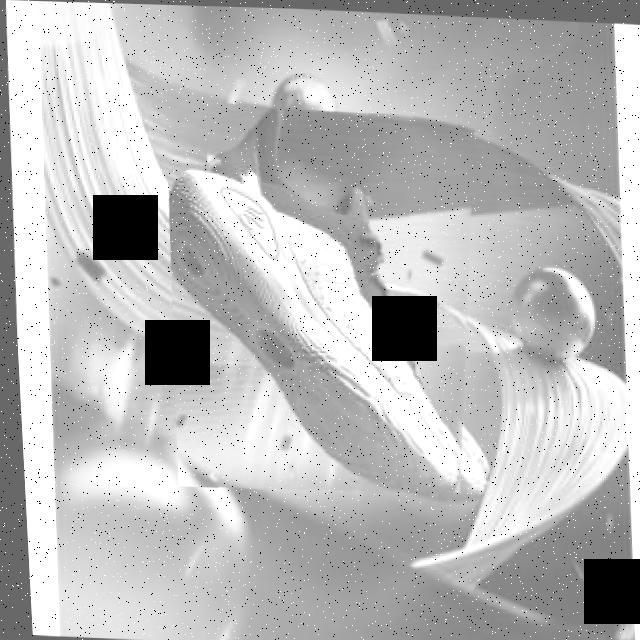shoe: (157, 102, 490, 498)
